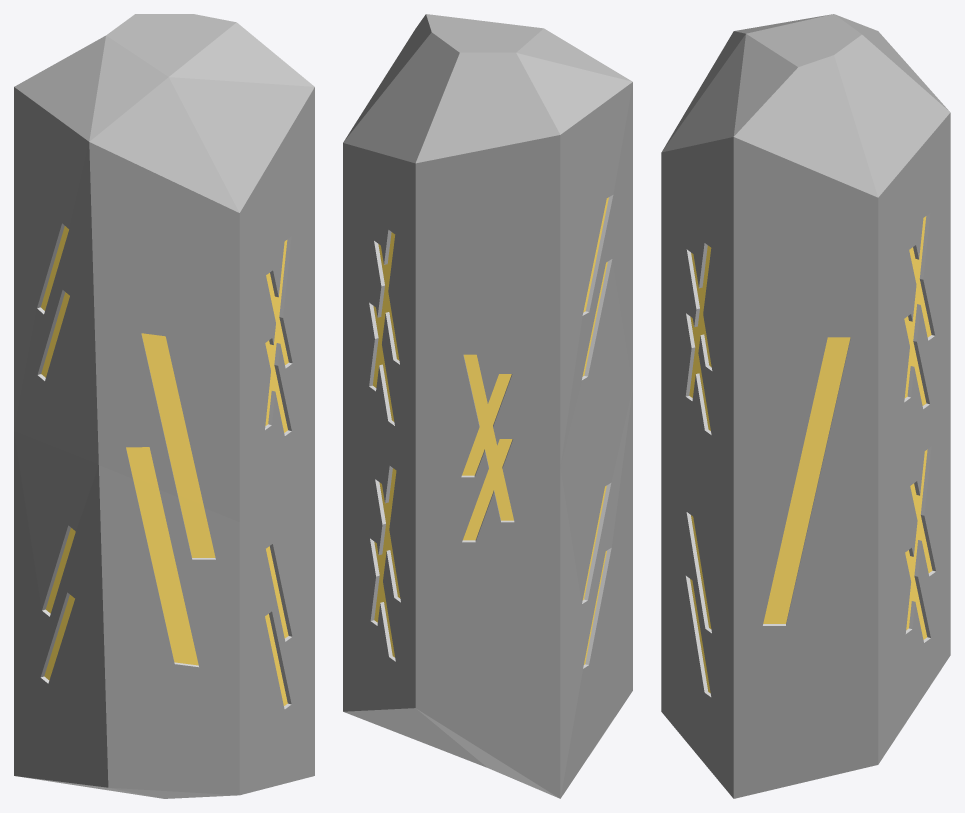
Rendered from dadico.glb.
3 renders of one model, left to right at view 1: azimuth 30°, elevation 25°; view 2: azimuth 150°, elevation 25°; view 3: azimuth 270°, elevation 25°, orthographic. The views are drawn at different scales.
Parts seen in each view (by area): view 1: Cylinder.001; view 2: Cylinder.001; view 3: Cylinder.001.
Part boxes in pixels (left/top/right/bottom): Cylinder.001: left=14, top=14, right=314, bottom=798; Cylinder.001: left=343, top=14, right=632, bottom=798; Cylinder.001: left=661, top=14, right=950, bottom=798.
Bounding box in the file's own units: 0.2451 × 0.7925 × 0.283.
